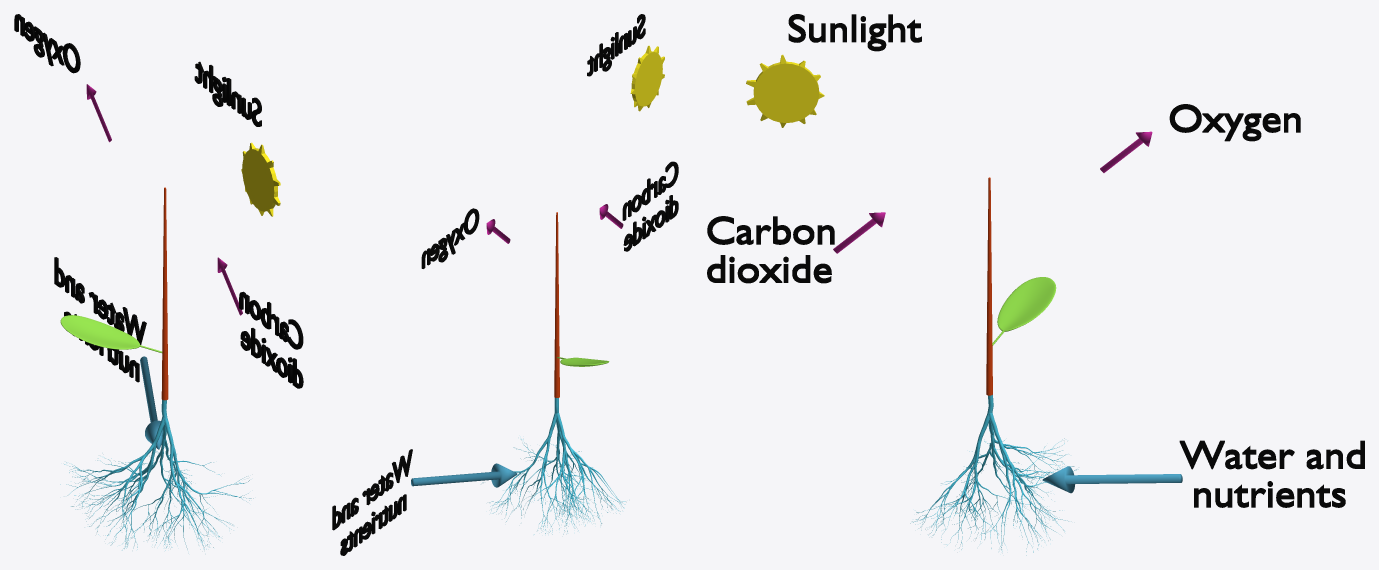
Rendered from photosynthesis.gltf.
3 views of the same model, side by side, from view 1: azimuth 30°, elevation 25°; view 2: azimuth 150°, elevation 25°; view 3: azimuth 270°, elevation 25° (orthographic). The views are drawn at different scales.
Parts seen in each view (by area): view 1: tree, Text.002, Text.001, Cylinder.004, Circle, Text, Text.003, Cylinder, Cylinder.002; view 2: tree, Text.001, Text.002, Cylinder.004, Text, Cylinder.002, Text.003, Cylinder; view 3: tree, Text.001, Cylinder.004, Text.002, Circle, Text, Text.003, Cylinder.002, Cylinder.
Part boxes in pixels (x1=…): tree: x1=60, y1=400, x2=253, y2=550; Text.002: x1=239, y1=291, x2=303, y2=388; Text.001: x1=54, y1=257, x2=146, y2=382; Cylinder.004: x1=241, y1=142, x2=280, y2=216; Circle: x1=60, y1=315, x2=162, y2=352; Text: x1=194, y1=61, x2=261, y2=126; Text.003: x1=14, y1=14, x2=80, y2=73; Cylinder: x1=161, y1=187, x2=168, y2=400; Cylinder.002: x1=140, y1=356, x2=162, y2=449; tree: x1=482, y1=398, x2=625, y2=534; Text.001: x1=332, y1=449, x2=412, y2=555; Text.002: x1=622, y1=161, x2=678, y2=251; Cylinder.004: x1=630, y1=45, x2=664, y2=111; Text: x1=587, y1=14, x2=645, y2=76; Cylinder.002: x1=411, y1=463, x2=517, y2=487; Text.003: x1=421, y1=208, x2=479, y2=268; Cylinder: x1=554, y1=212, x2=559, y2=397; tree: x1=910, y1=395, x2=1078, y2=555; Text.001: x1=1179, y1=440, x2=1364, y2=507; Cylinder.004: x1=746, y1=54, x2=824, y2=127; Text.002: x1=707, y1=216, x2=834, y2=283; Circle: x1=992, y1=277, x2=1056, y2=345; Text: x1=788, y1=14, x2=921, y2=51; Text.003: x1=1169, y1=104, x2=1300, y2=141; Cylinder.002: x1=1042, y1=466, x2=1182, y2=493; Cylinder: x1=986, y1=177, x2=992, y2=395.
Size of the model in its own units: 1.16 by 3.69 by 4.16.
